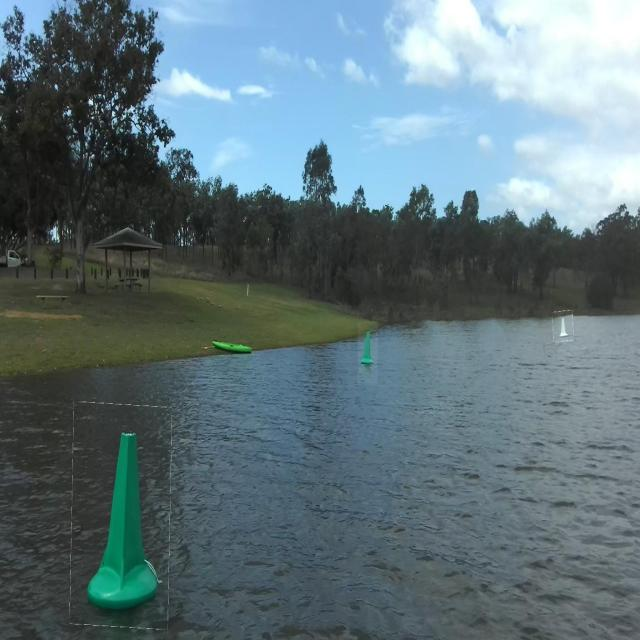Green_Buoy: (76, 409, 171, 640), (360, 326, 379, 374)
White_Buoy: (556, 308, 573, 342)
